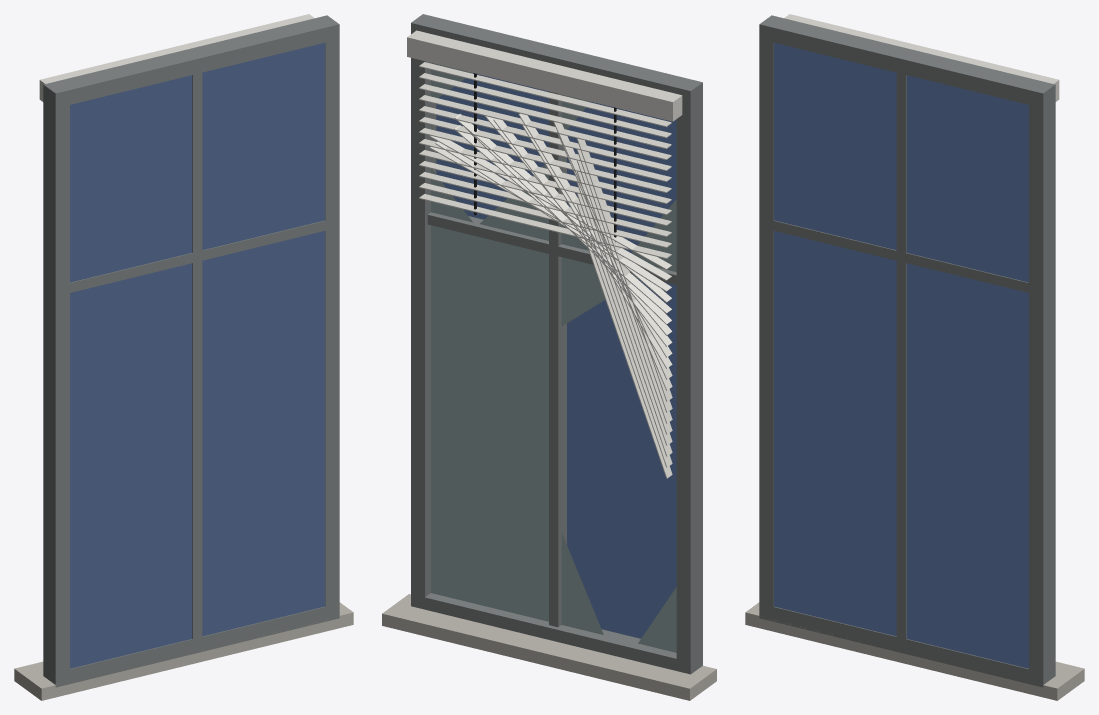
The model's file is window_torn.fbx.
3 views of the same model, side by side, from view 1: azimuth 30°, elevation 25°; view 2: azimuth 150°, elevation 25°; view 3: azimuth 330°, elevation 25° (orthographic).
Visible parts, largest first — view 1: window_torn; view 2: window_torn; view 3: window_torn.
Part boxes in pixels (x1,y1,x2,y2): window_torn: (14,14,353,700); window_torn: (382,14,716,700); window_torn: (745,14,1084,700).
Bounding box in the file's own units: 1.32 × 2.44 × 0.2.
